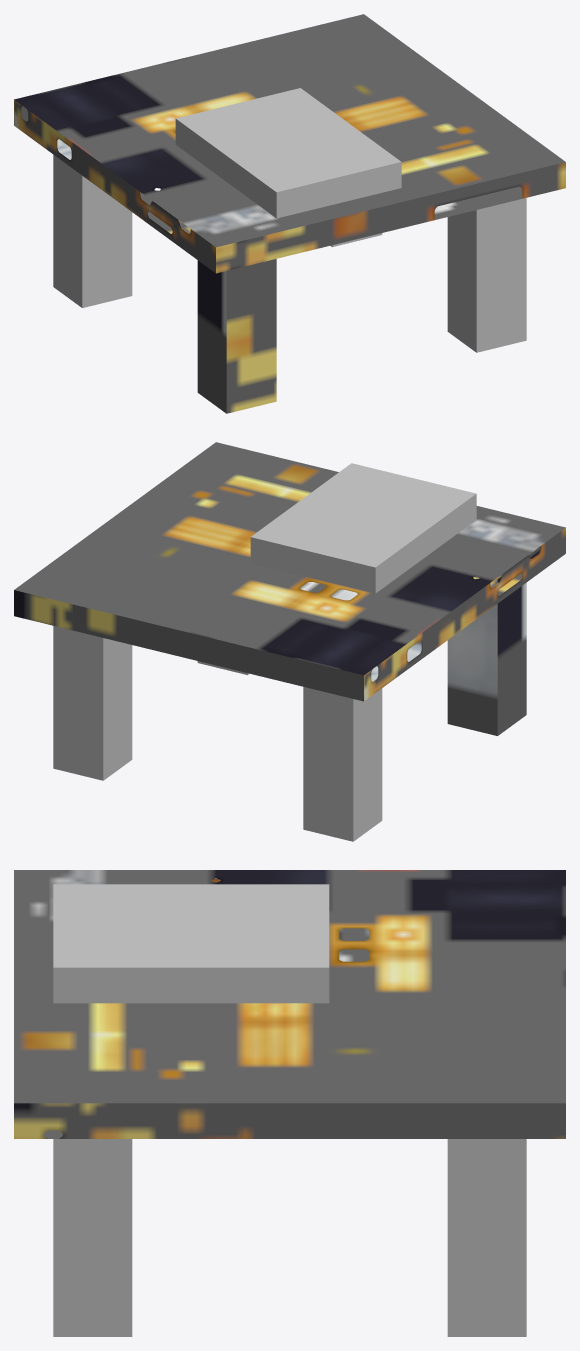
File: mesa_de_trabajo.obj
3 renders of one model, top to bottom at view 1: azimuth 30°, elevation 25°; view 2: azimuth 150°, elevation 25°; view 3: azimuth 270°, elevation 25°, orthographic. The views are drawn at different scales.
Visible parts, largest first — view 1: cube; view 2: cube; view 3: cube.
Boxes of the visible parts, x1,y1,x2,y2 form: cube: (14,14,565,413); cube: (14,442,565,841); cube: (14,870,565,1336).
Size of the model in its own units: 0.875 by 0.5 by 0.875.
